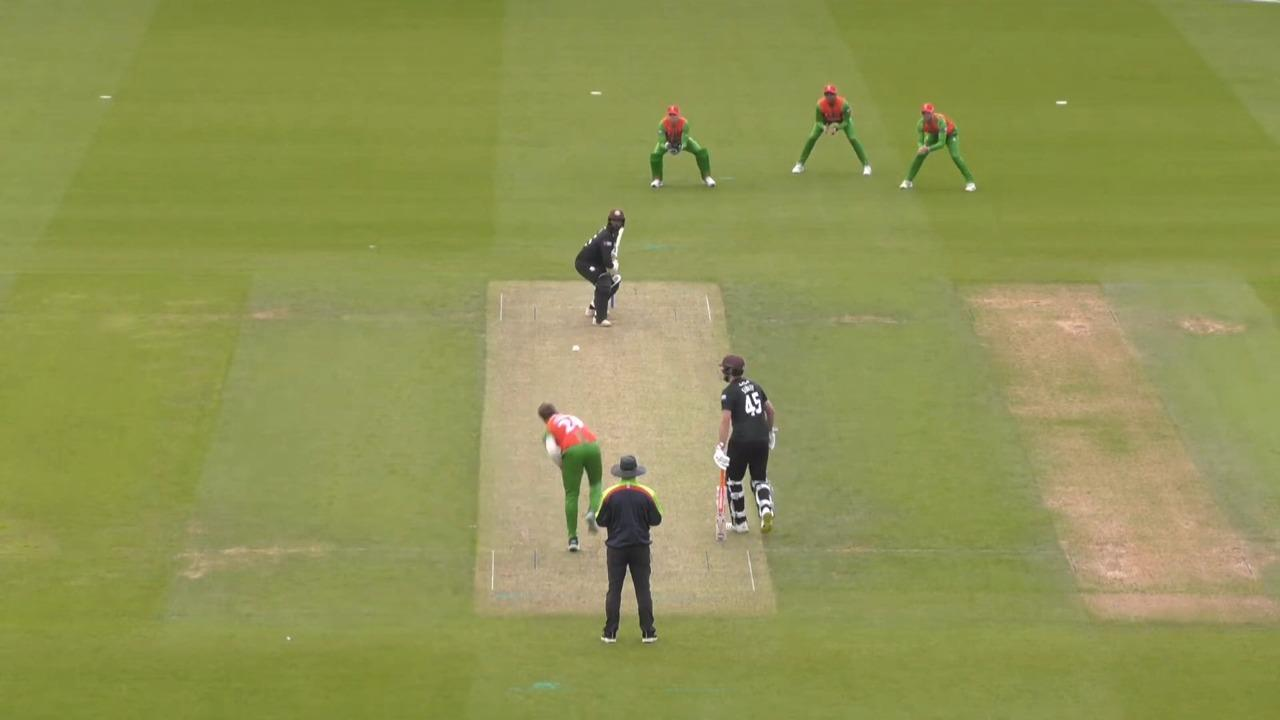sports ball: (572, 345, 580, 351)
